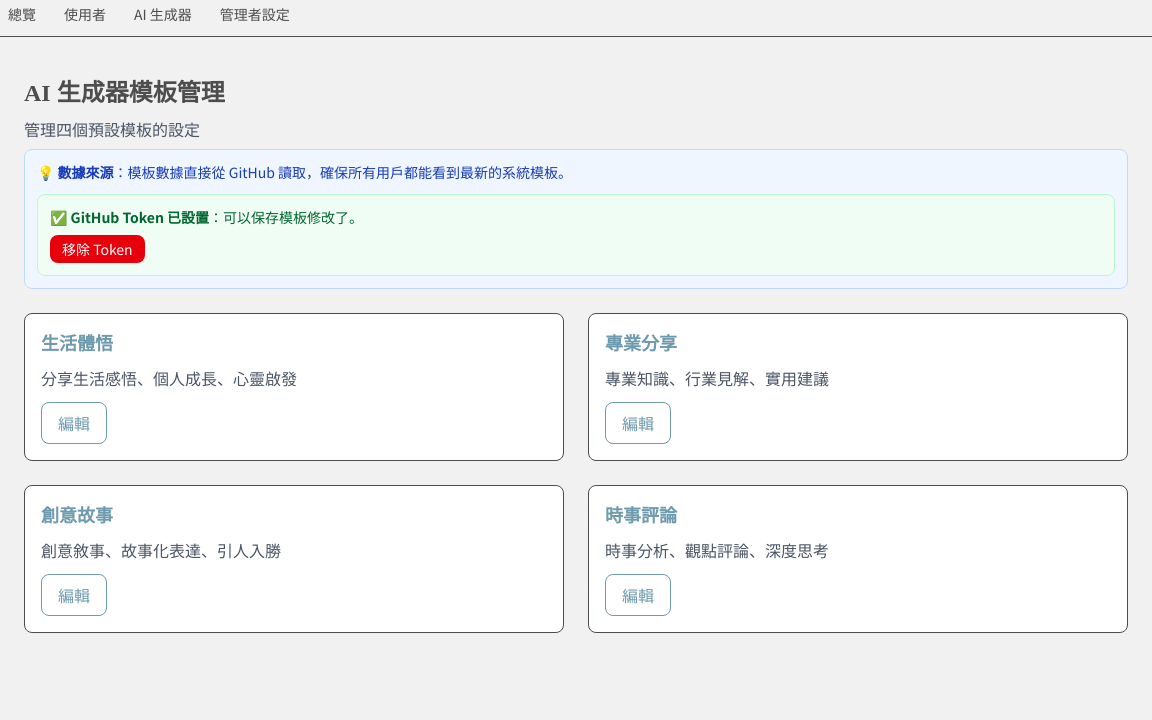
Scenario: AIGenerator 模板持久化修復功能 › 模板編輯和保存 › 應該能夠處理空字串的保存
This screenshot has width=1152, height=720.
Click the button "編輯" below "分享生活感悟、個人成長、心靈啟發" at (74, 423), box [41, 402, 107, 444]
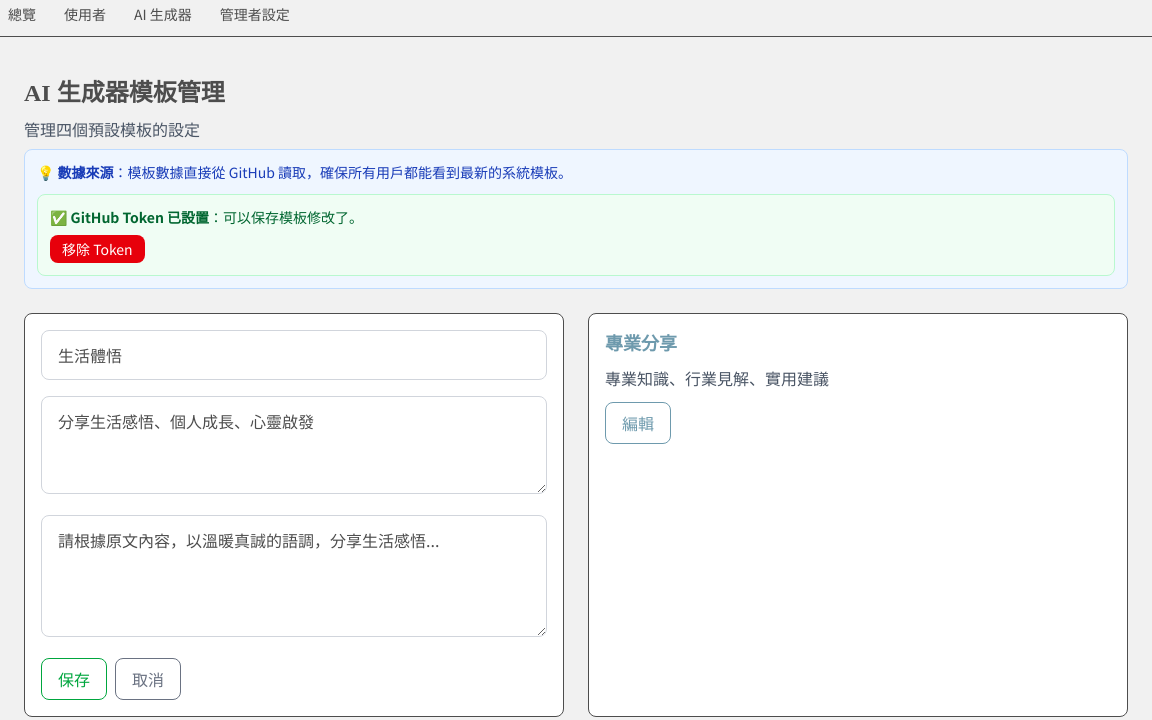
Clear the field showing "生活體悟" at (294, 355), box [41, 330, 547, 380]
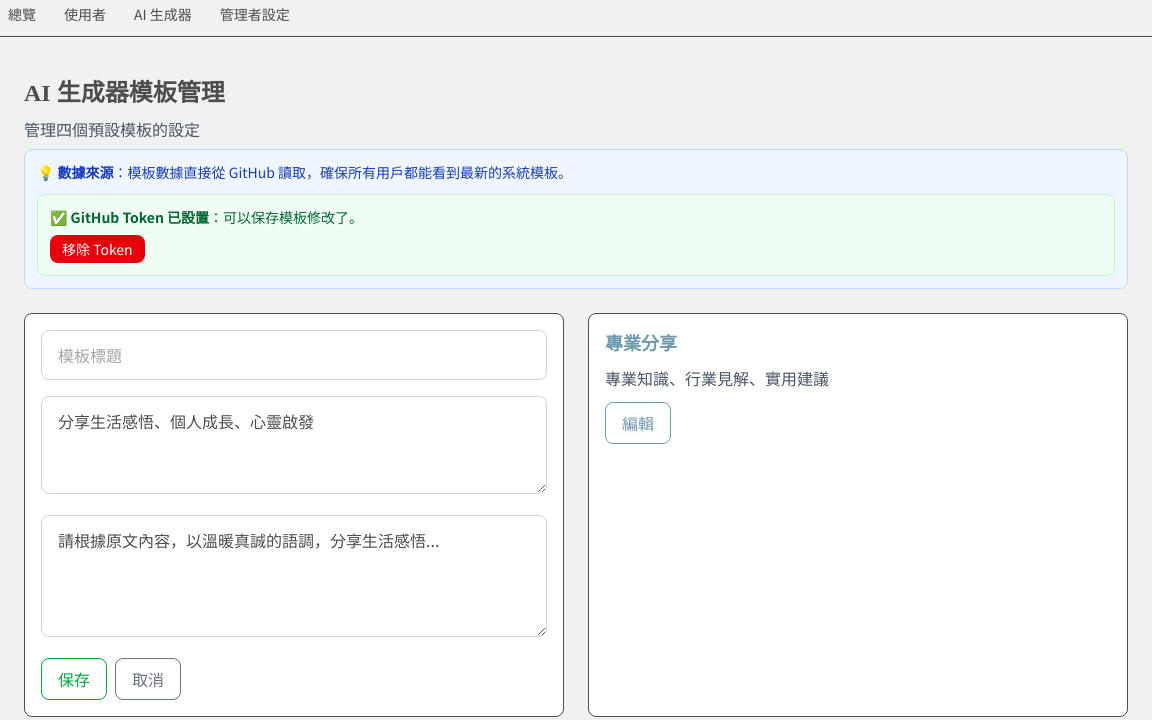
Clear the 1st text box showing "分享生活感悟、個人成長、心靈啟發" at (294, 445), box [41, 396, 547, 494]
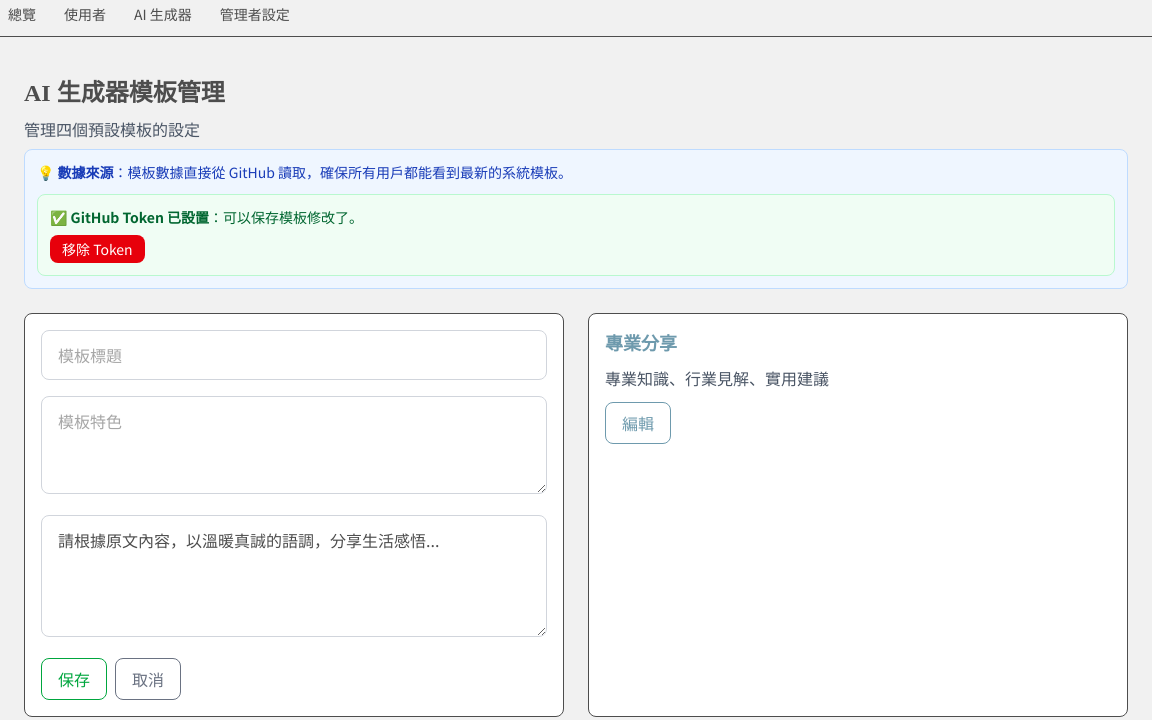
Click the button "保存" at (74, 679), box [41, 658, 107, 700]
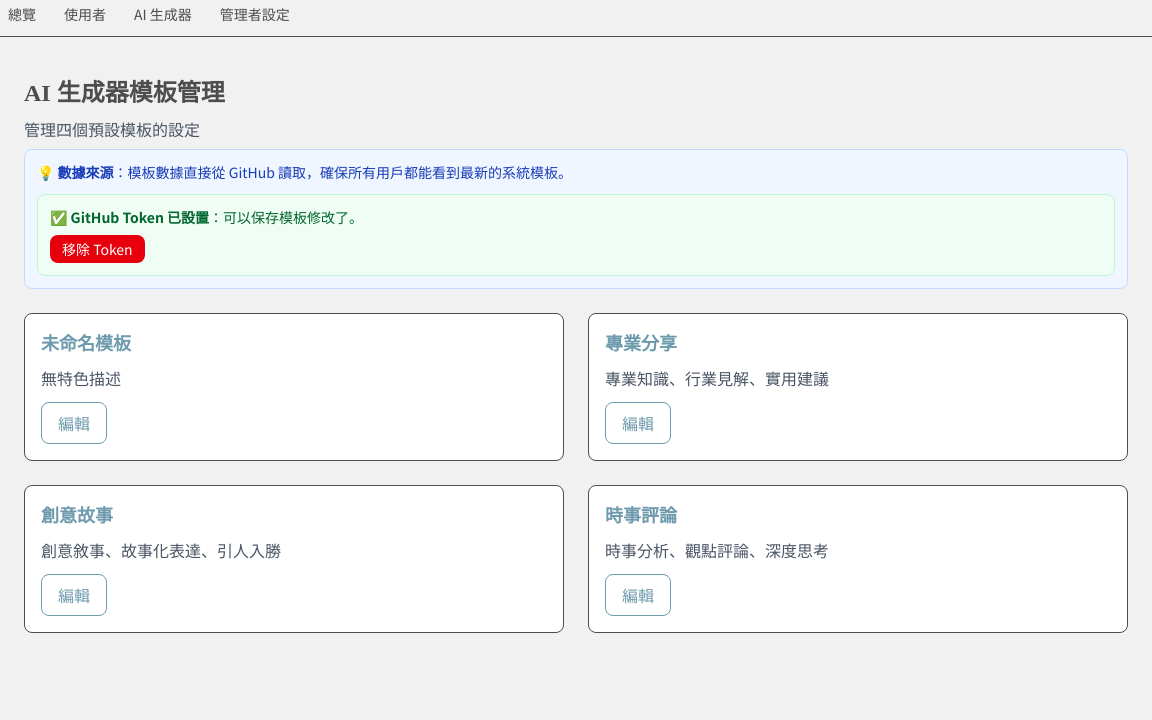
Expected: the button "編輯" below "無特色描述" is shown, [41, 402, 107, 444]
